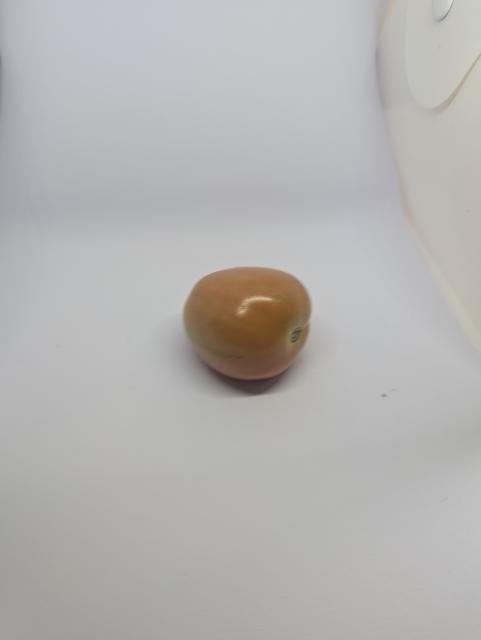turning: (176, 256, 327, 388)
